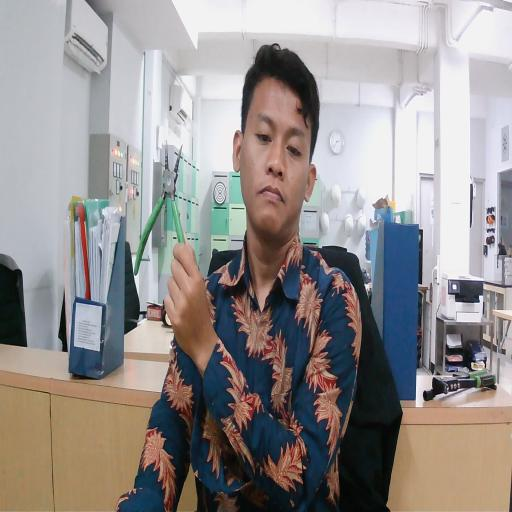tang_scun_hidrolik: (129, 130, 200, 294)
